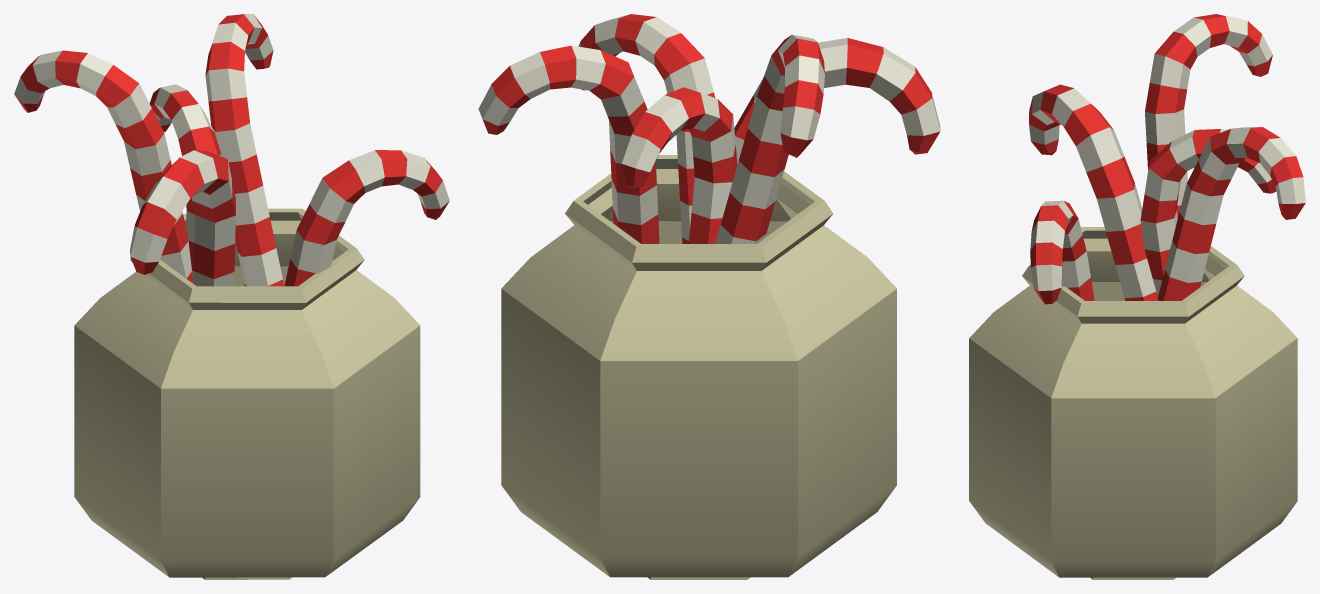
The model's file is Candycane_jar.fbx.
3 views of the same model, side by side, from view 1: azimuth 30°, elevation 25°; view 2: azimuth 150°, elevation 25°; view 3: azimuth 270°, elevation 25° (orthographic). The views are drawn at different scales.
Visible parts, largest first — view 1: Candycane_jar; view 2: Candycane_jar; view 3: Candycane_jar.
Boxes of the visible parts, x1,y1,x2,y2 form: Candycane_jar: (14, 14, 449, 579); Candycane_jar: (478, 14, 940, 579); Candycane_jar: (969, 14, 1305, 579).
Size of the model in its own units: 0.1508 by 0.2258 by 0.1453.
